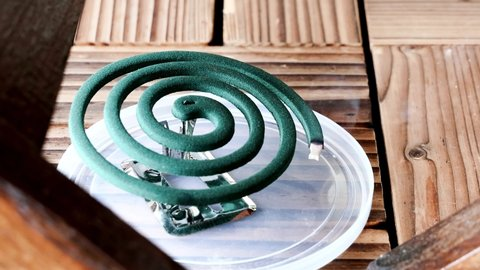Open-Flame-Hazard: (60, 42, 333, 232)
